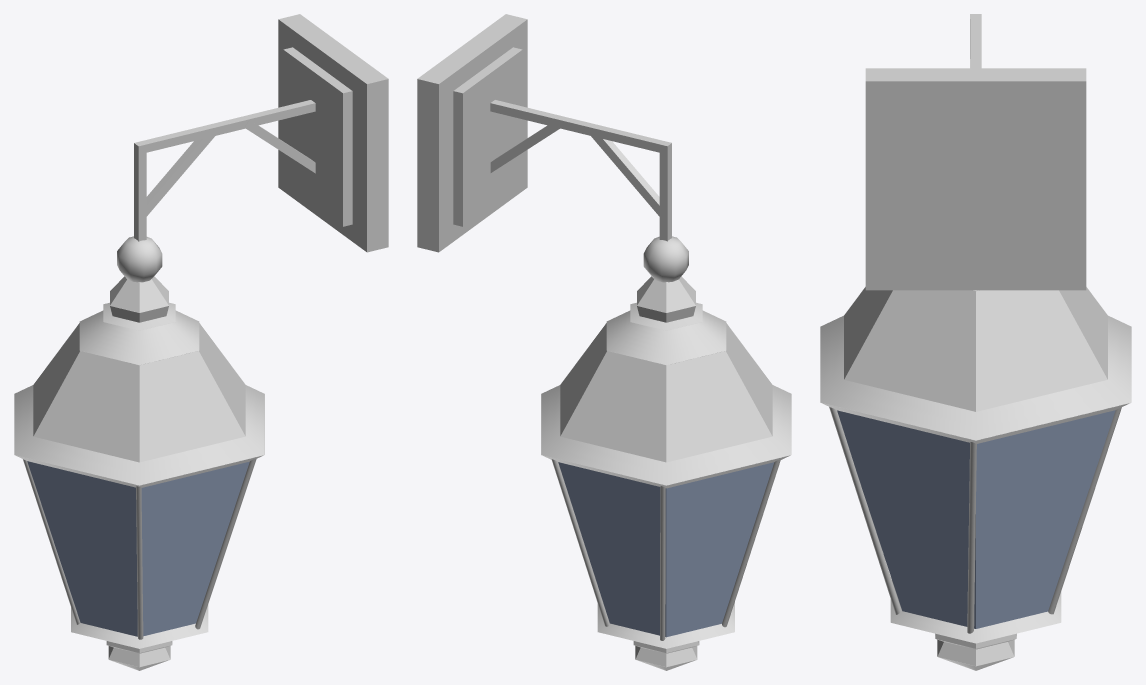
The model's file is LanternFactory.fbx.
The picture shows the model from 3 angles, left to right: view 1: azimuth 30°, elevation 25°; view 2: azimuth 150°, elevation 25°; view 3: azimuth 270°, elevation 25°; orthographic projection. The views are drawn at different scales.
Parts seen in each view (by area): view 1: laterne, glas; view 2: laterne, glas; view 3: laterne, glas.
Boxes of the visible parts, bbox=[...] form: laterne: bbox=[14, 14, 388, 670]; glas: bbox=[27, 461, 249, 636]; laterne: bbox=[417, 14, 791, 670]; glas: bbox=[558, 462, 774, 637]; laterne: bbox=[820, 14, 1131, 670]; glas: bbox=[837, 410, 1115, 628].
Size of the model in its own units: 414 by 688 by 272.
